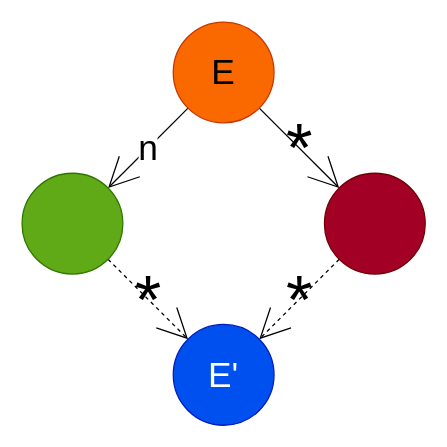
The diagram is 447 pixels wide and 447 high, and some of its shapes have lost their labels. The shapes that lost their labels are listed below. From the top down, each one's centre as x and y in pixels, then its label:
At (x=72, y=223): "E1".
At (x=374, y=223): "E2".
